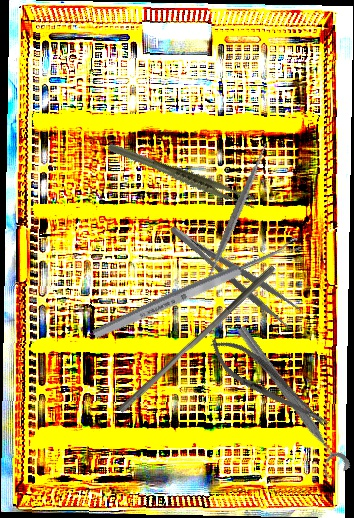Dressing Forceps: (165, 211, 305, 332)
Fixation Ring: (224, 322, 353, 483)
Needle Holder: (200, 327, 338, 441)
Pusher: (117, 259, 277, 419)
Spatula Surgical: (161, 138, 312, 290)
Surgical Spoon: (91, 236, 302, 342)
Tissue Forceps: (105, 117, 260, 233)
